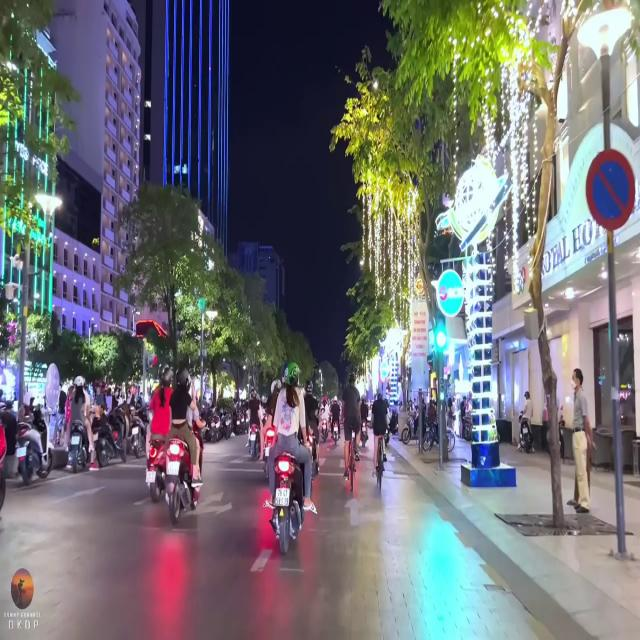bien_trang: (274, 486, 292, 509)
